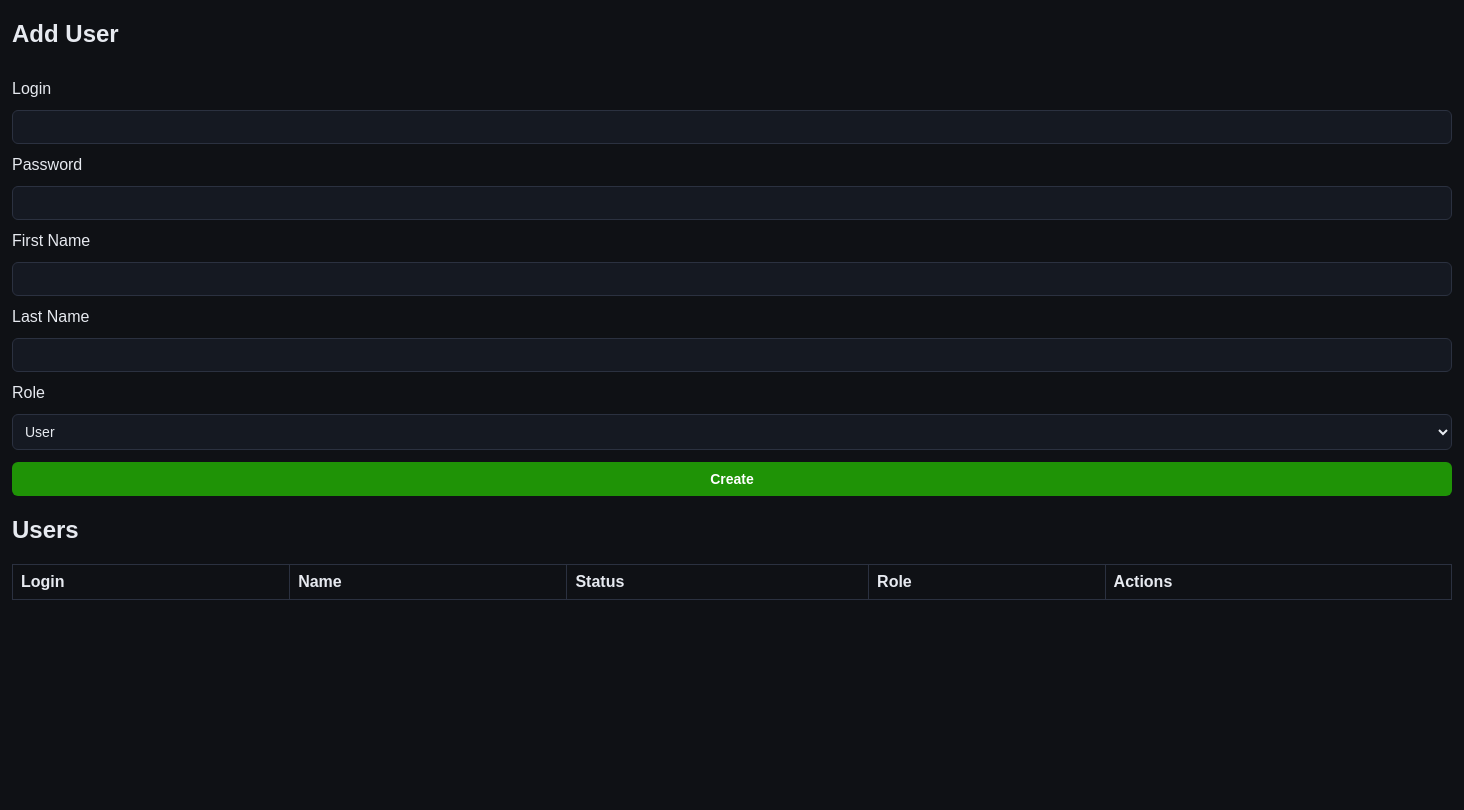
Test: AdminUsersClient › loads users and can create a new user
The width and height of the screenshot is (1464, 810).
expect the heading "Users" is shown: met, box 12,516 -> 79,543
Type "aya" into the field labelled "Login" at (732, 127), box 12,110 -> 1452,144
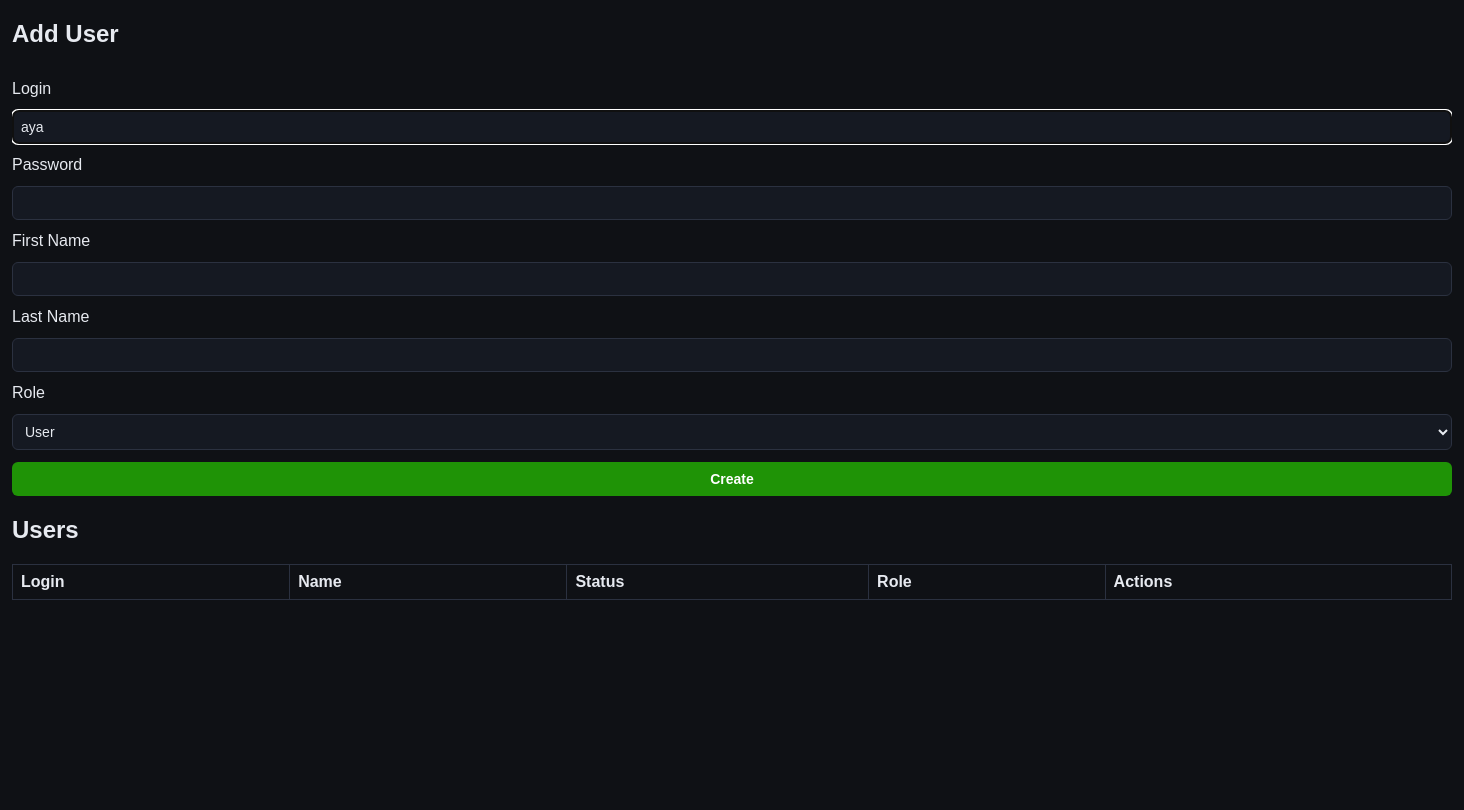
Type "User123!" into the password field labelled "Password" at (732, 203), box 12,186 -> 1452,220
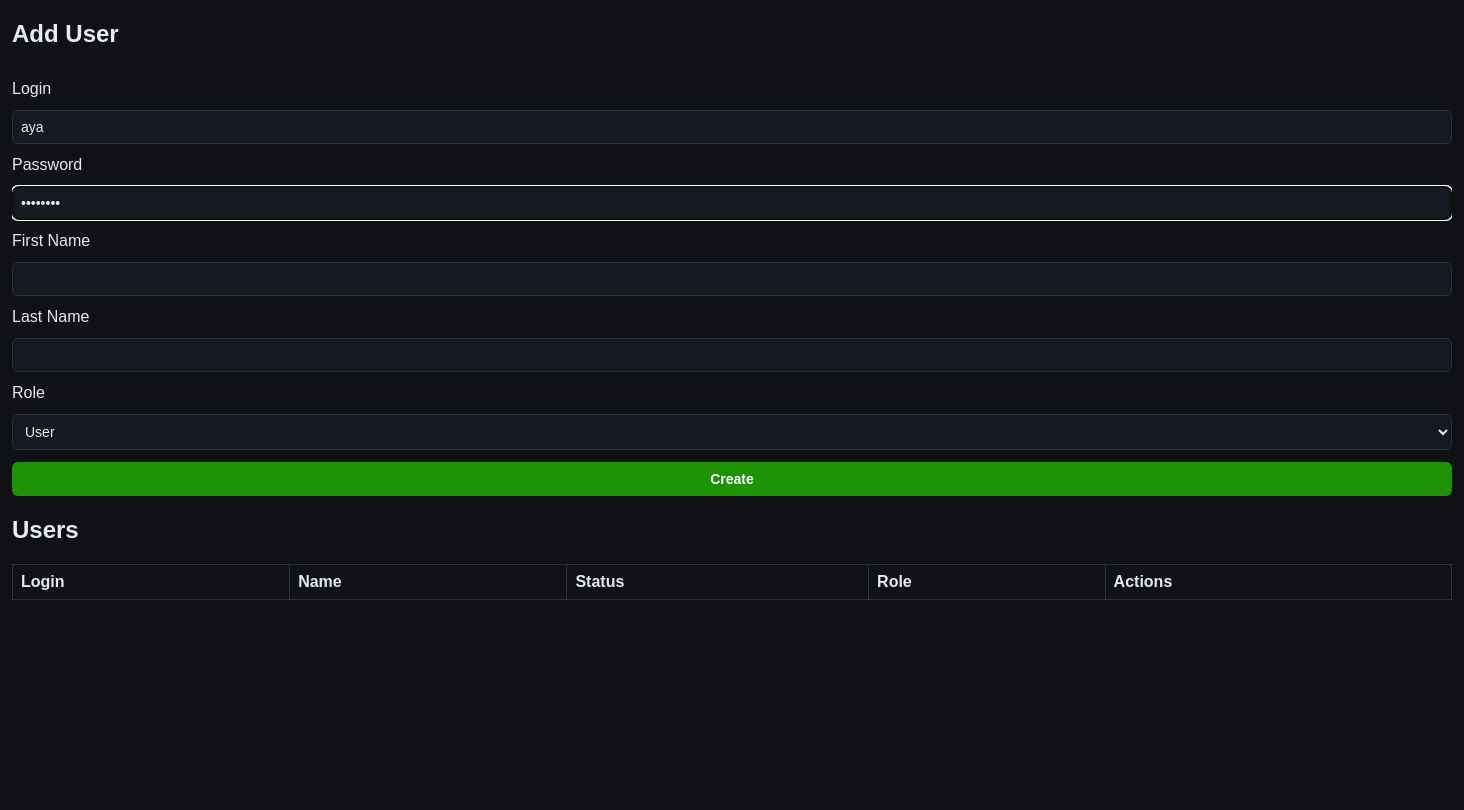
Type "Aya" into the field labelled "First Name" at (732, 279), box 12,262 -> 1452,296
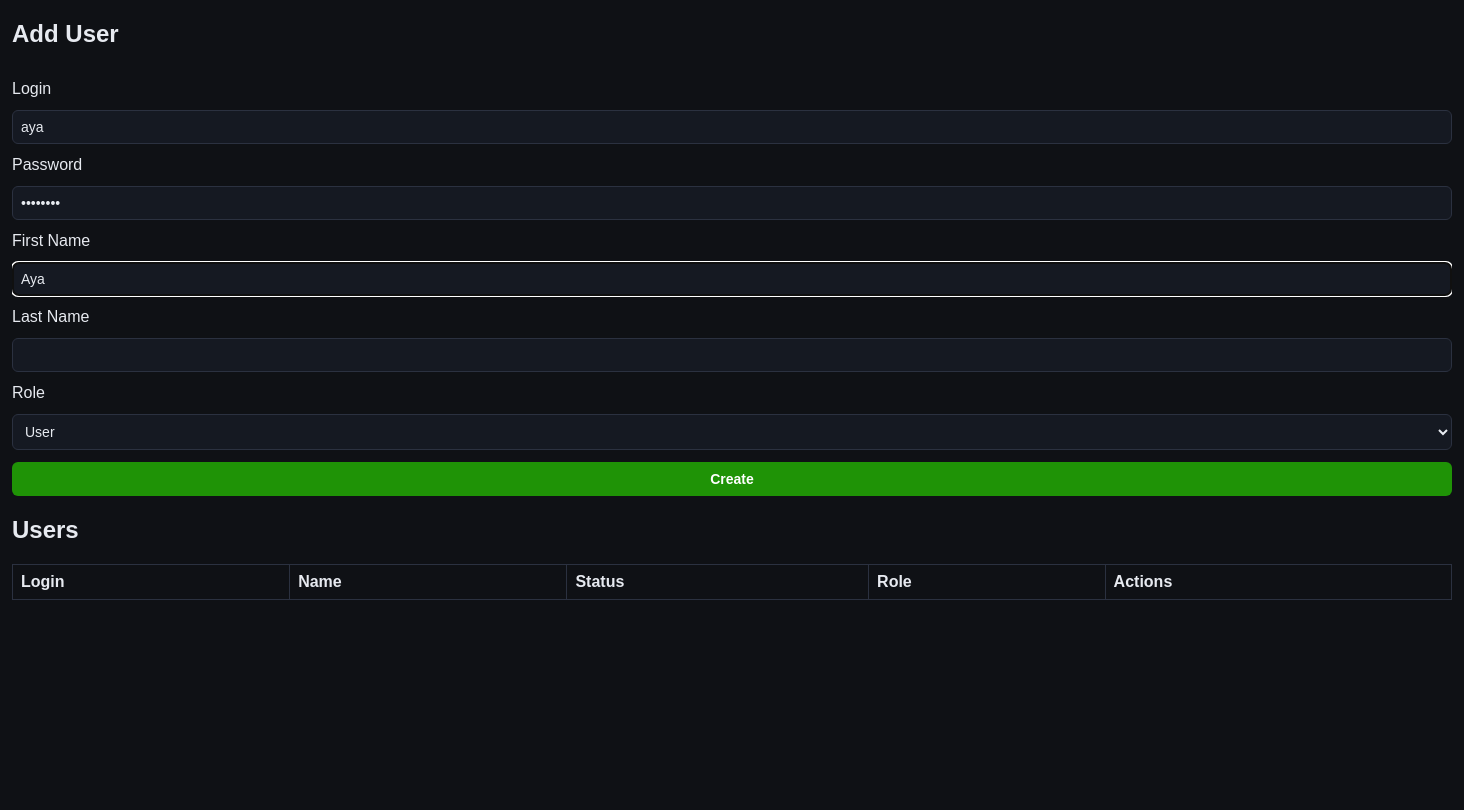
Type "Kovi" into the field labelled "Last Name" at (732, 355), box 12,338 -> 1452,372
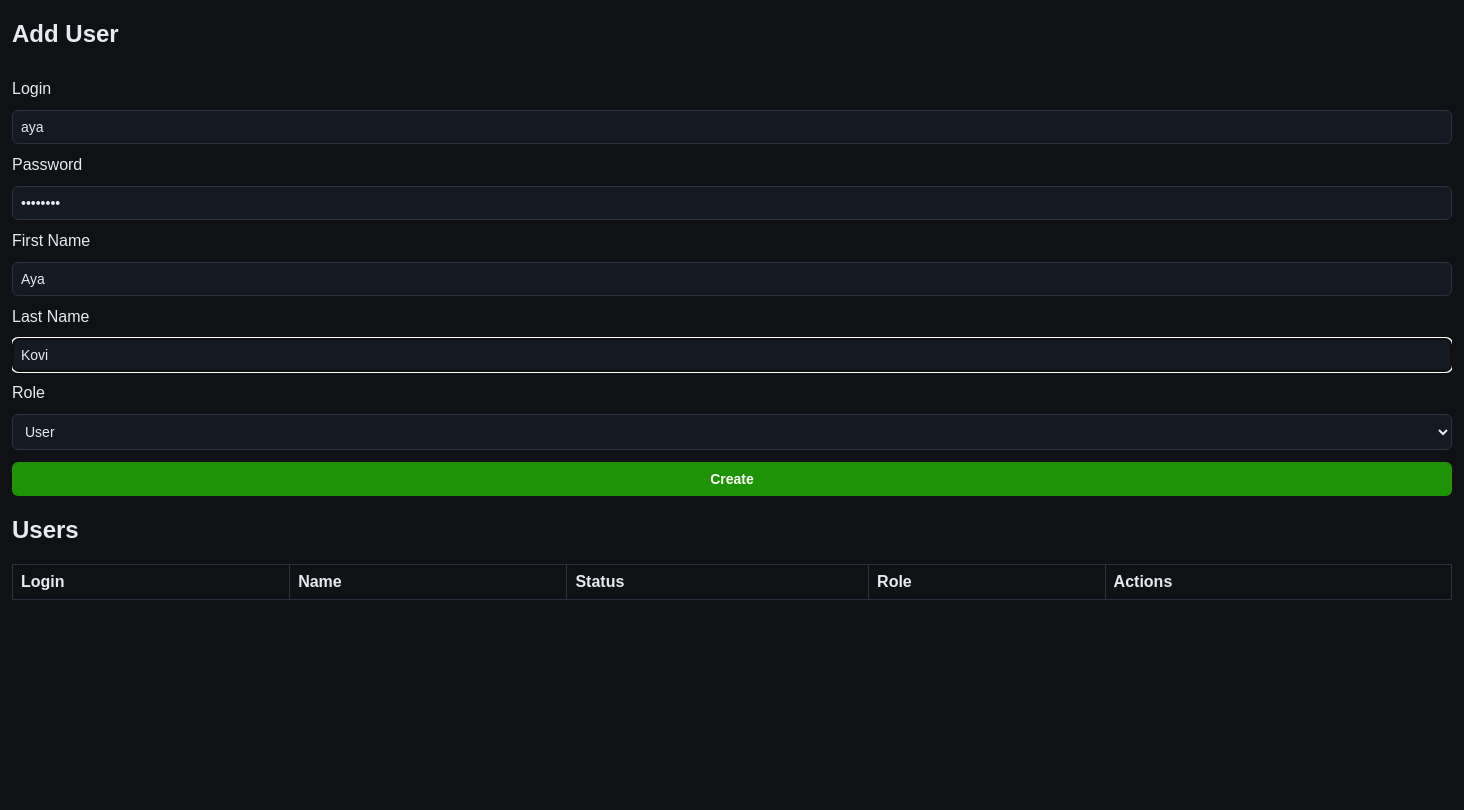
Click the button "Create" at (732, 479), box 12,462 -> 1452,496
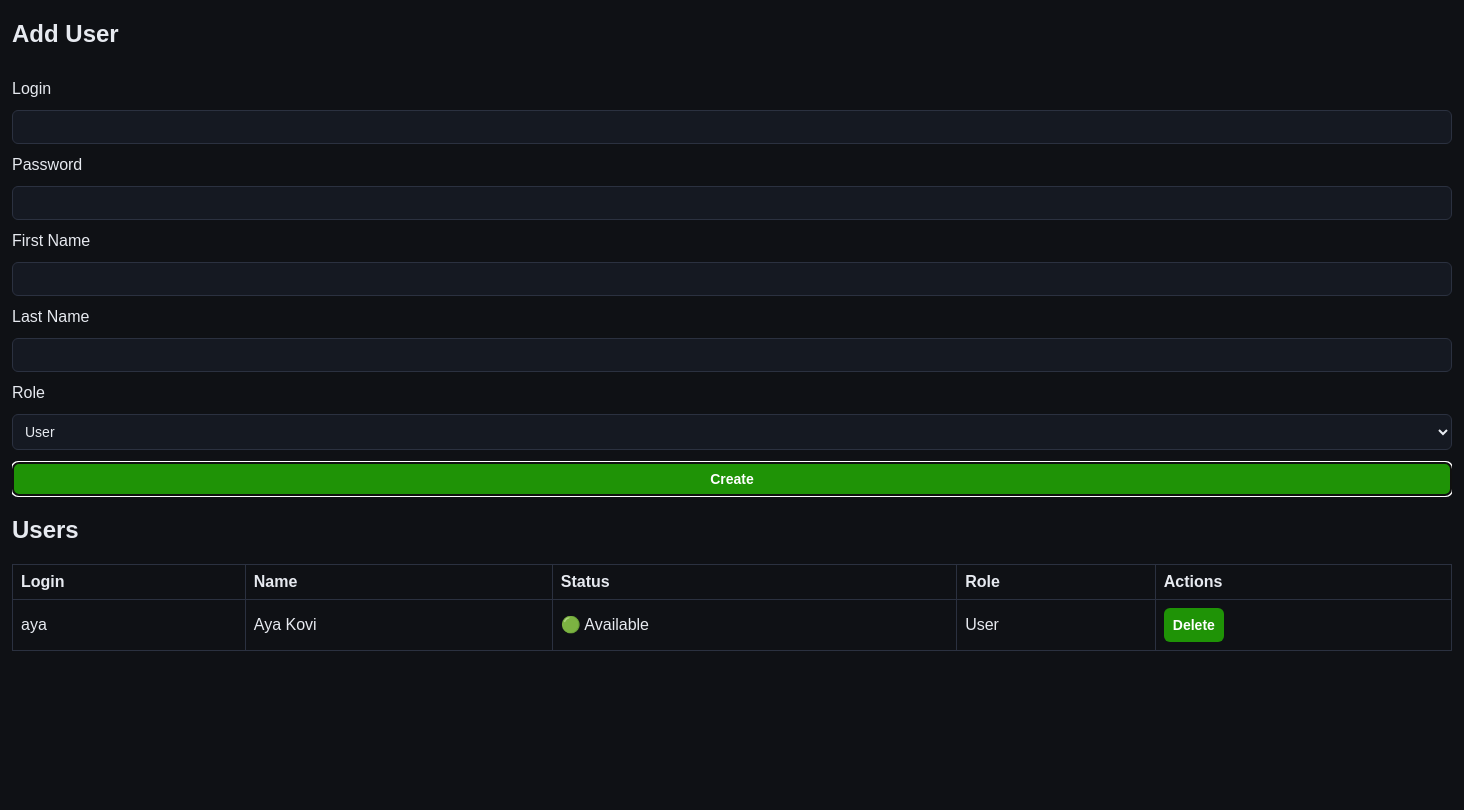
expect the text "Aya Kovi" is shown: met, box 245,599 -> 552,650
